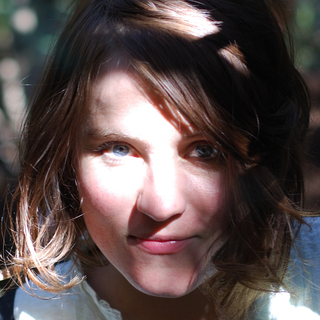eye: (87, 135, 144, 167), (176, 139, 228, 164)
